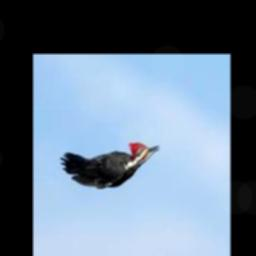Woodpecker: (59, 142, 159, 187)
